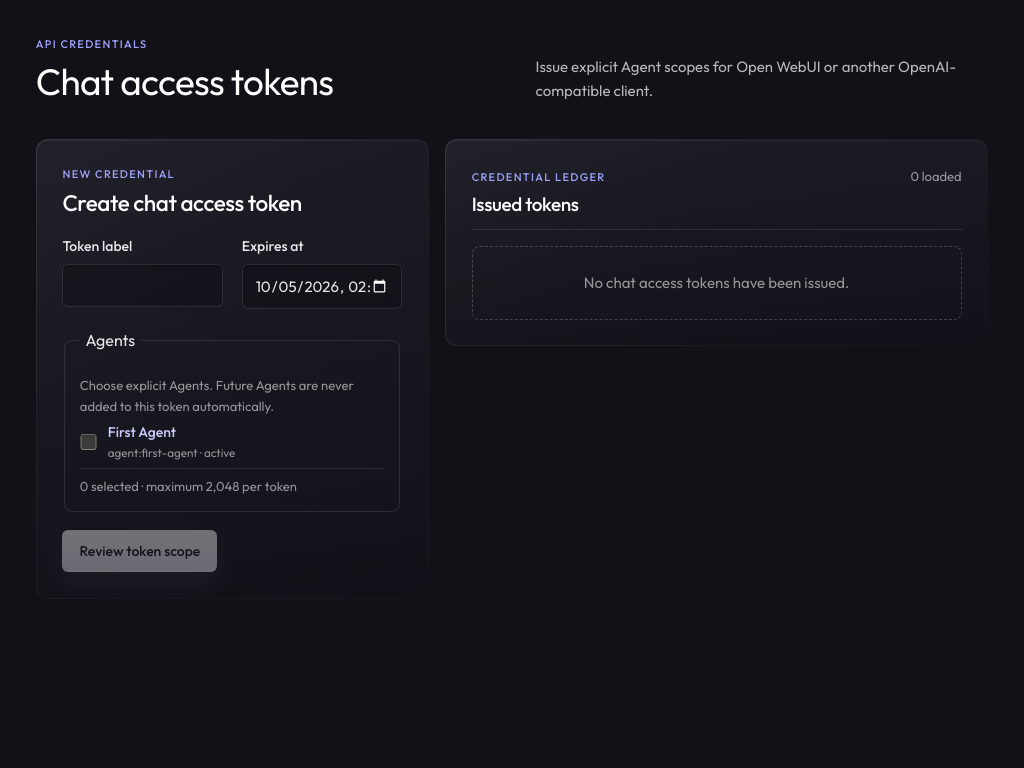
Test case: idempotent replay never fabricates plaintext and directs the operator to revoke
The width and height of the screenshot is (1024, 768).
Type "Failure case" into the field labelled "Token label" at (143, 286), box x1=62 y1=264 x2=223 y2=307
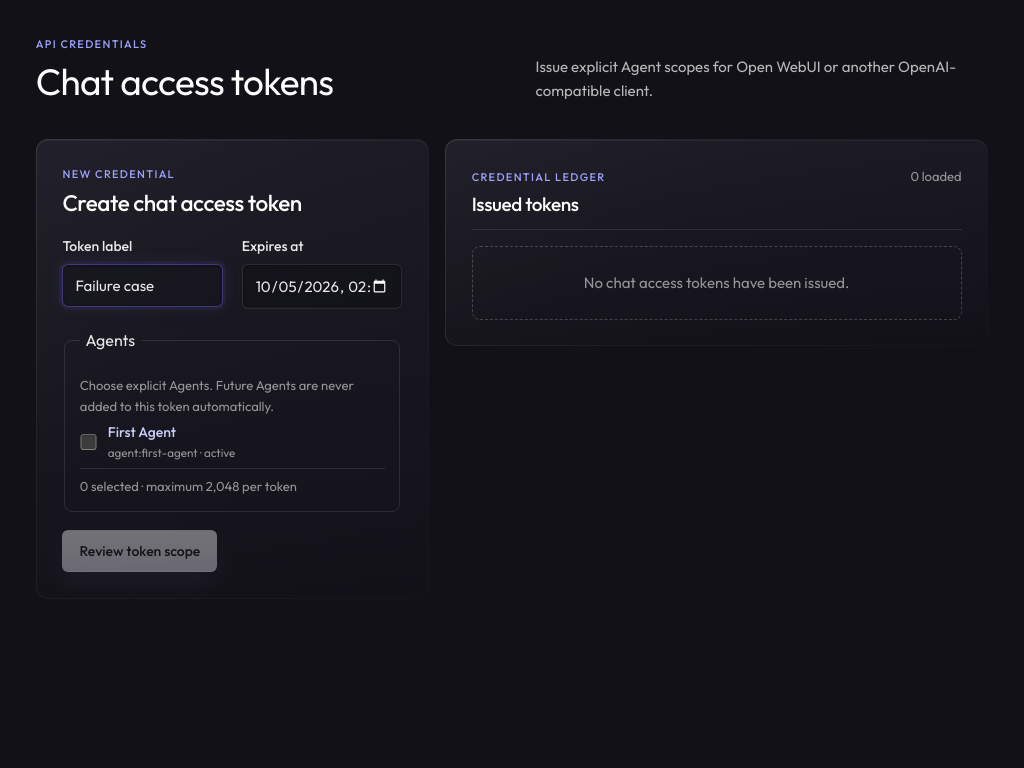
Click the checkbox labelled "First Agent agent:first-agent · active" at (88, 442), box x1=80 y1=434 x2=97 y2=450
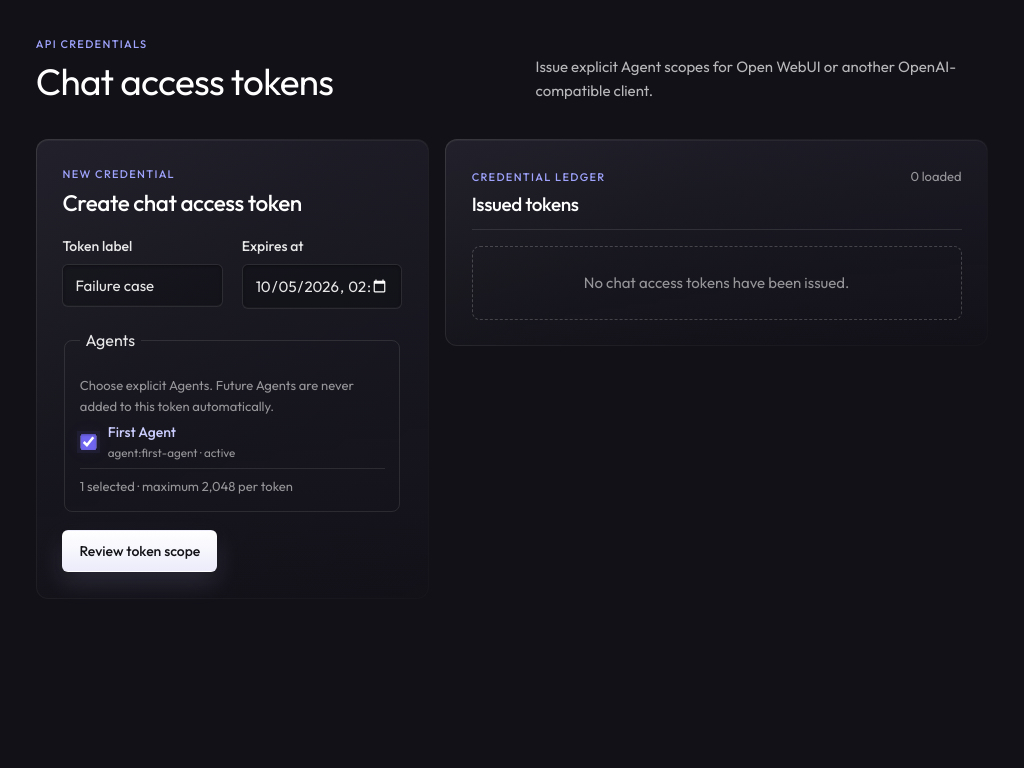
Click the button "Review token scope" at (140, 551), box x1=62 y1=530 x2=217 y2=572
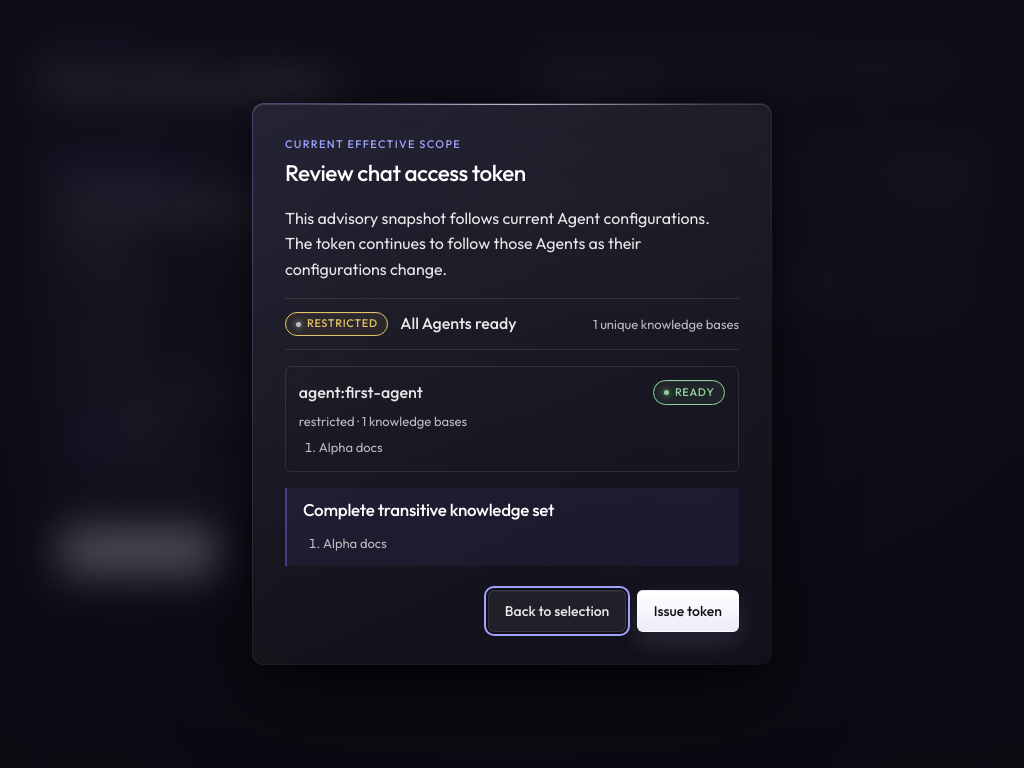
Check: the heading "Review chat access token" is shown, box x1=285 y1=158 x2=526 y2=187
Click the button "Issue token" at (688, 611), box x1=637 y1=590 x2=739 y2=632
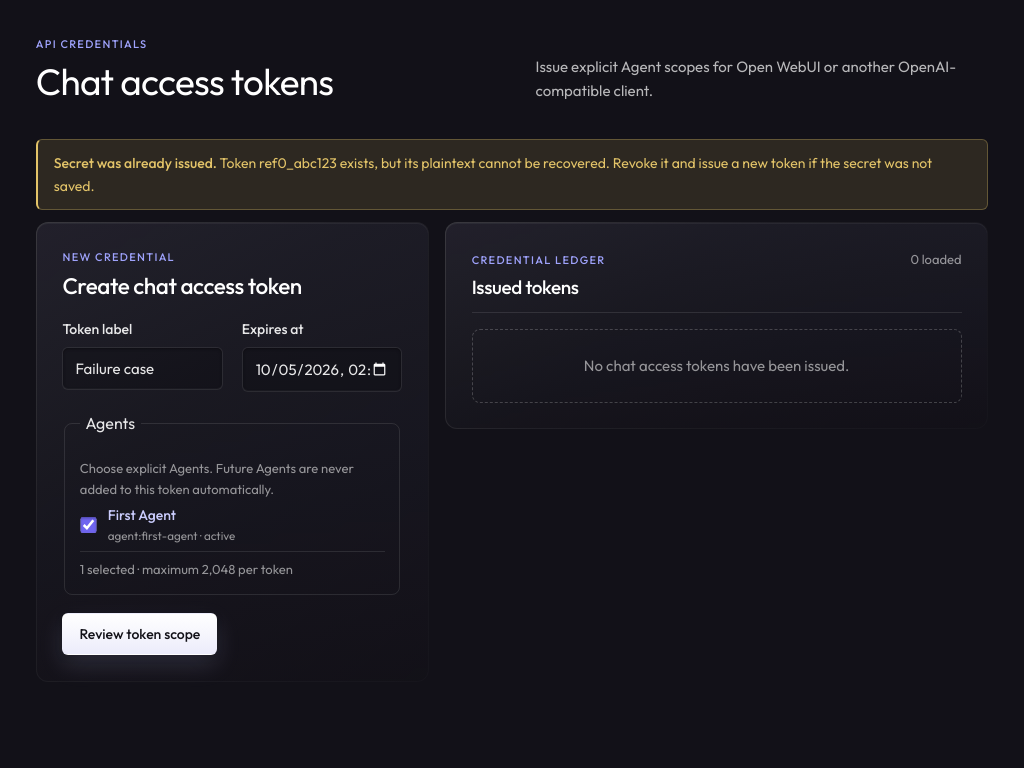
Check: the text "Secret was already issued." is shown, box x1=54 y1=154 x2=217 y2=172
Check: the text "Revoke it and issue a new token" is shown, box x1=54 y1=154 x2=932 y2=194
